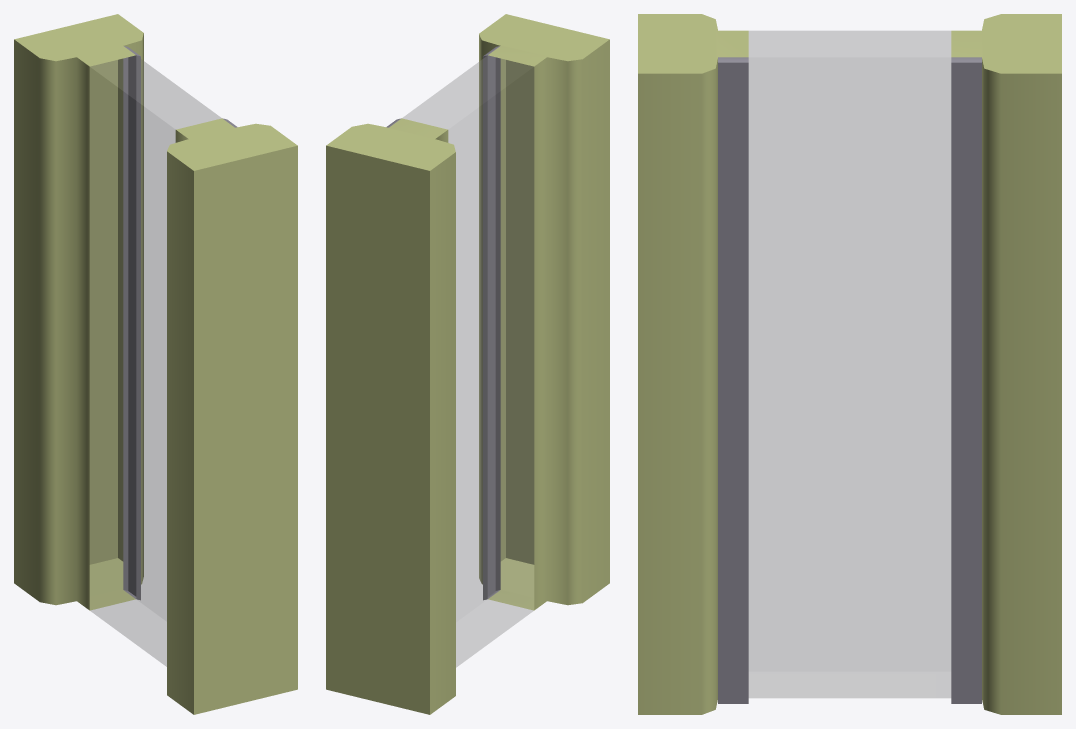
The model's file is sidedoor.fbx.
3 views of the same model, side by side, from view 1: azimuth 30°, elevation 25°; view 2: azimuth 150°, elevation 25°; view 3: azimuth 270°, elevation 25° (orthographic). The views are drawn at different scales.
Parts seen in each view (by area): view 1: doorSide_mod; view 2: doorSide_mod; view 3: doorSide_mod.
Part boxes in pixels (box(x1,y1,x2,y2)): doorSide_mod: box(14, 14, 297, 714); doorSide_mod: box(326, 14, 609, 714); doorSide_mod: box(638, 14, 1061, 714).
Bounding box in the file's own units: 1 × 5.02 × 3.
